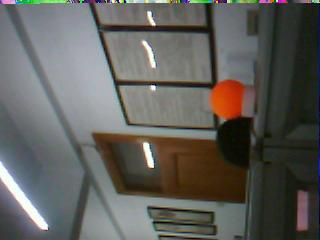oball: (209, 78, 243, 120)
